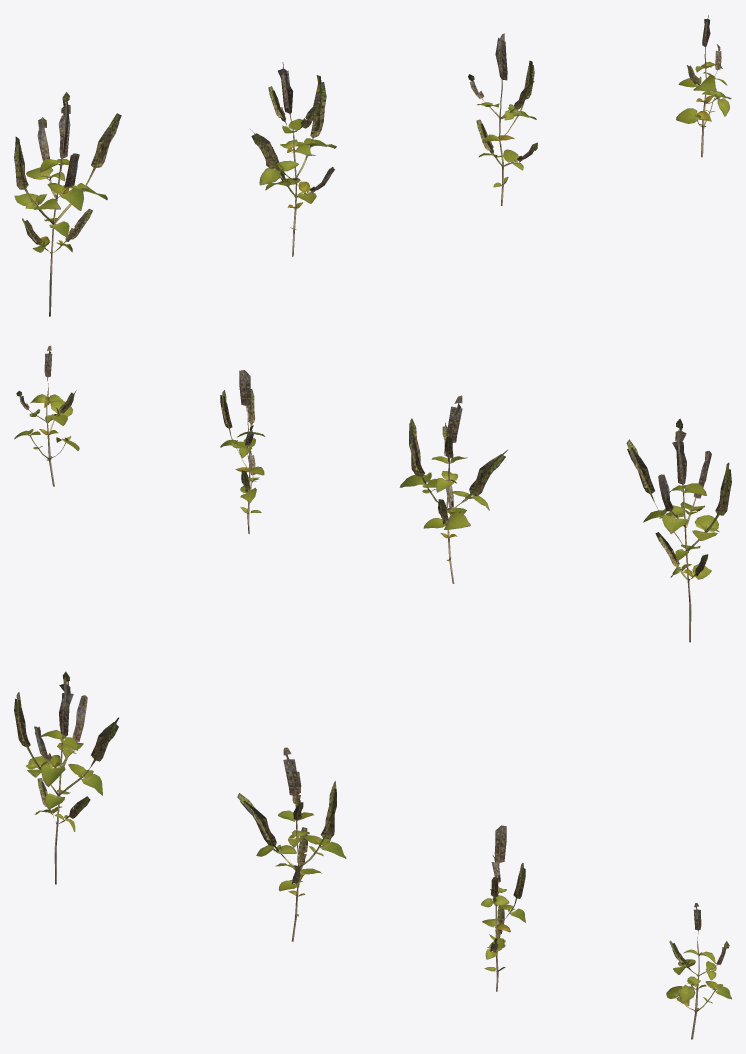
The model's file is shrub_03.glb.
The picture shows the model from 3 angles, top to bottom: view 1: azimuth 30°, elevation 25°; view 2: azimuth 150°, elevation 25°; view 3: azimuth 330°, elevation 25°; orthographic projection. The views are drawn at different scales.
Parts seen in each view (by area): view 1: shrub_03_a, shrub_03_b, shrub_03_c, shrub_03_d; view 2: shrub_03_a, shrub_03_b, shrub_03_c, shrub_03_d; view 3: shrub_03_a, shrub_03_b, shrub_03_c, shrub_03_d.
Boxes of the visible parts, x1,y1,x2,y2 form: shrub_03_a: [14, 92, 121, 316]; shrub_03_b: [250, 62, 336, 256]; shrub_03_c: [468, 33, 537, 205]; shrub_03_d: [676, 15, 731, 157]; shrub_03_a: [626, 418, 731, 642]; shrub_03_b: [399, 395, 507, 583]; shrub_03_c: [220, 370, 264, 533]; shrub_03_d: [14, 345, 79, 486]; shrub_03_a: [14, 671, 118, 884]; shrub_03_b: [237, 747, 346, 941]; shrub_03_c: [481, 825, 525, 991]; shrub_03_d: [666, 903, 731, 1039].
Bounding box in the file's own units: 1.37 × 0.403 × 0.1512.
Materials: 1 (1 with a texture image).
